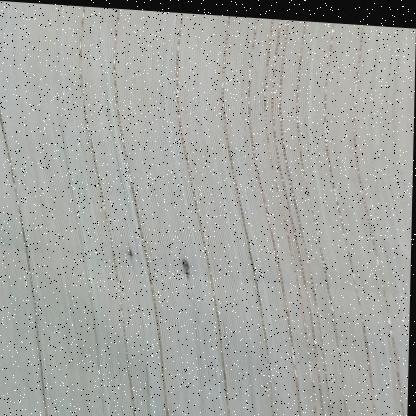spot: (180, 250, 193, 276), (125, 243, 137, 256)
